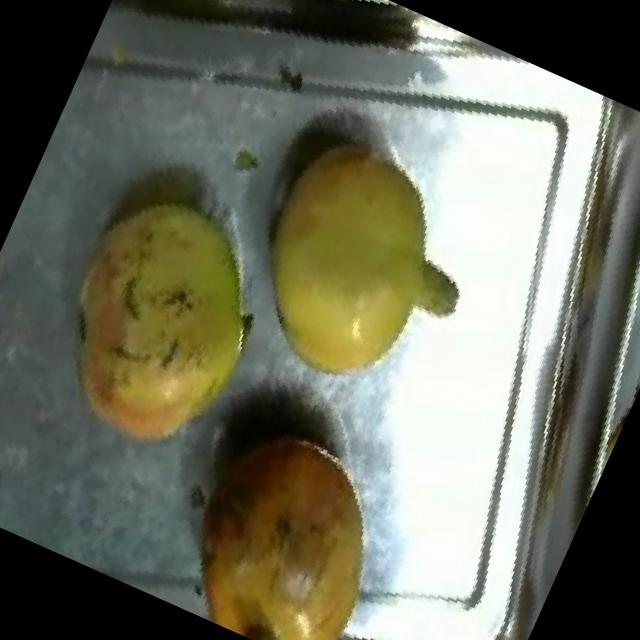fruit: (0, 141, 334, 506), (194, 86, 532, 432), (130, 365, 456, 640)
